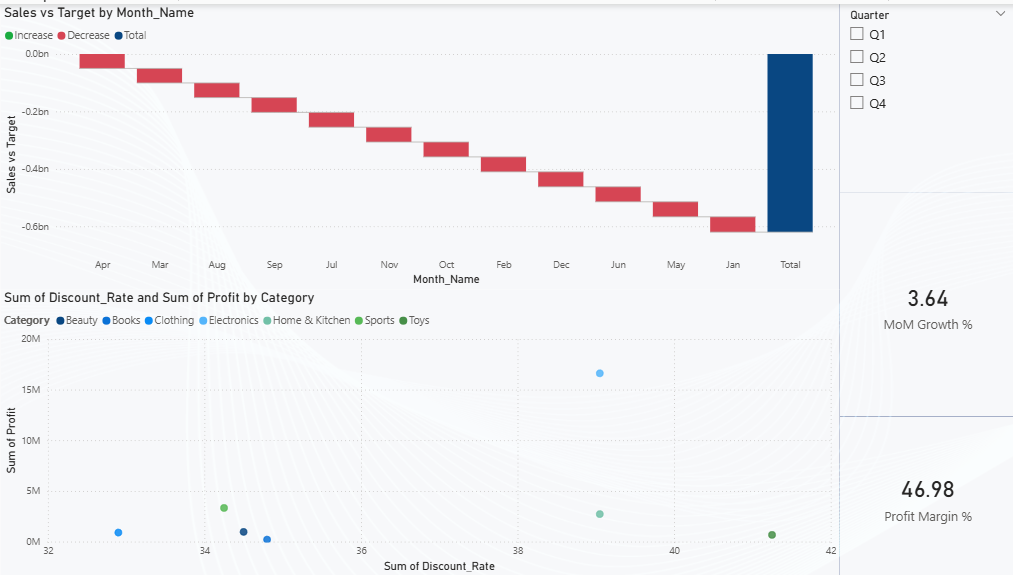

This screenshot's page, from the dashboard's own definition file:
{"tool":"powerbi","page":{"name":"Page 3","canvas":[1280,720],"ordinal":2},"visuals":[{"type":"waterfallChart","fields":{"Category":["Orders.Month_Name"],"Y":["Orders.Sales vs Target"]},"box":[0,0,1058.3,359.1],"z":0},{"type":"scatterChart","fields":{"X":["Sum(Orders.Discount_Rate)"],"Y":["Sum(Orders.Profit)"],"Series":["Orders.Category"]},"box":[0,359.1,1058.3,360.9],"z":1000},{"type":"card","fields":{"Values":["Orders.Profit Margin %"]},"box":[1058.3,519.7,221.1,200.3],"z":2000},{"type":"card","fields":{"Values":["Orders.MoM Growth %"]},"box":[1058.3,238.1,221.1,281.6],"z":3000},{"type":"slicer","fields":{"Values":["Orders.Quarter"]},"box":[1058.3,0,221.1,238.1],"z":4000}]}

Visuals, with their boxes in screenshot pixels (x1, y1, x2, y2), scaled from the page's 1280x720 canvas onto the 1013x575 screenshot:
waterfallChart - Orders.Month_Name x Orders.Sales vs Target: 0, 0, 838, 287
scatterChart - Sum(Orders.Discount_Rate) x Sum(Orders.Profit): 0, 287, 838, 574
card - Orders.Profit Margin %: 838, 415, 1012, 574
card - Orders.MoM Growth %: 838, 190, 1012, 415
slicer - Orders.Quarter: 838, 0, 1012, 190
